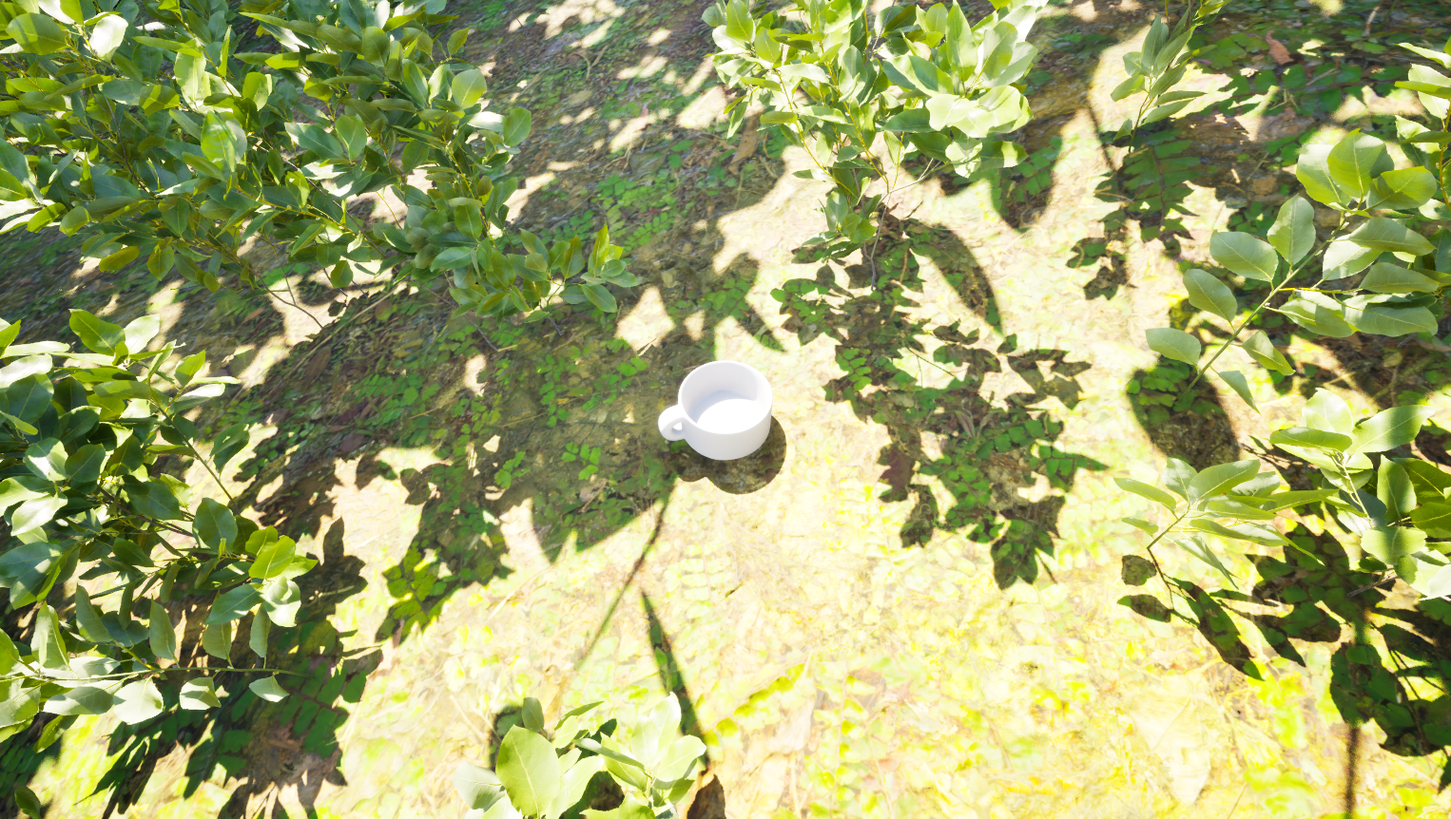Teacup: (652, 350, 781, 470)
